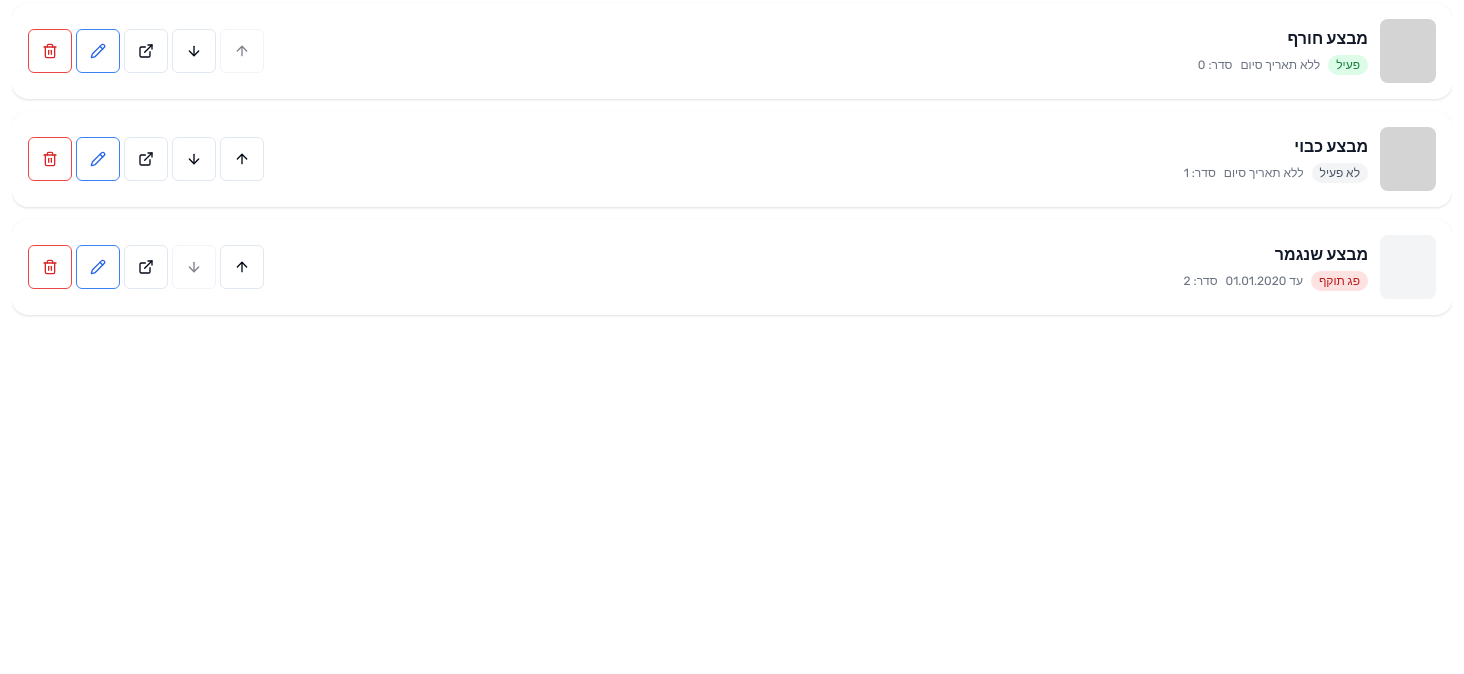
Test: admin deals — hero (TICKET-029) › editing a deal whose hero is off keeps the checkbox unchecked
Click the button named "עריכה".
click(98, 159)  # box [76,137,120,181]
(page scrolled)
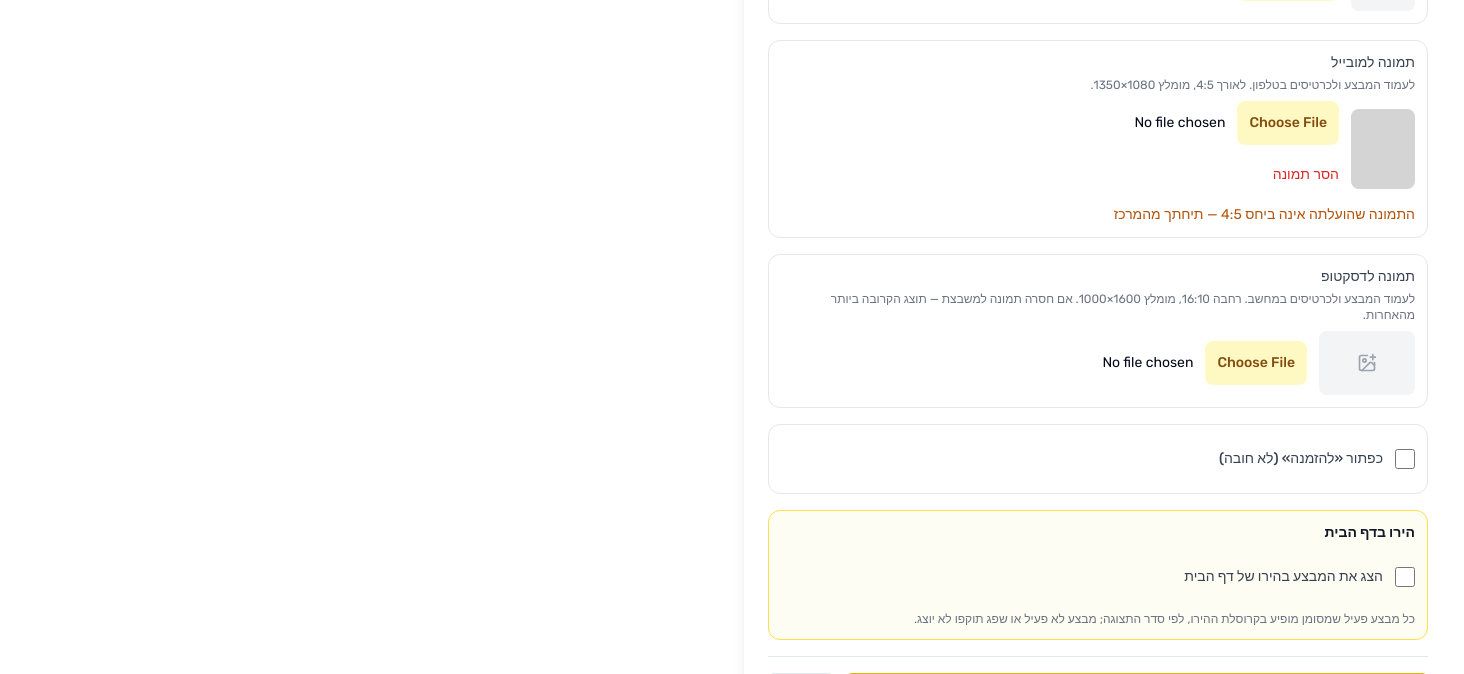
Expected: the checkbox labelled "הצג את המבצע בהירו של דף הבית" is not checked, [1395,567,1415,587]
